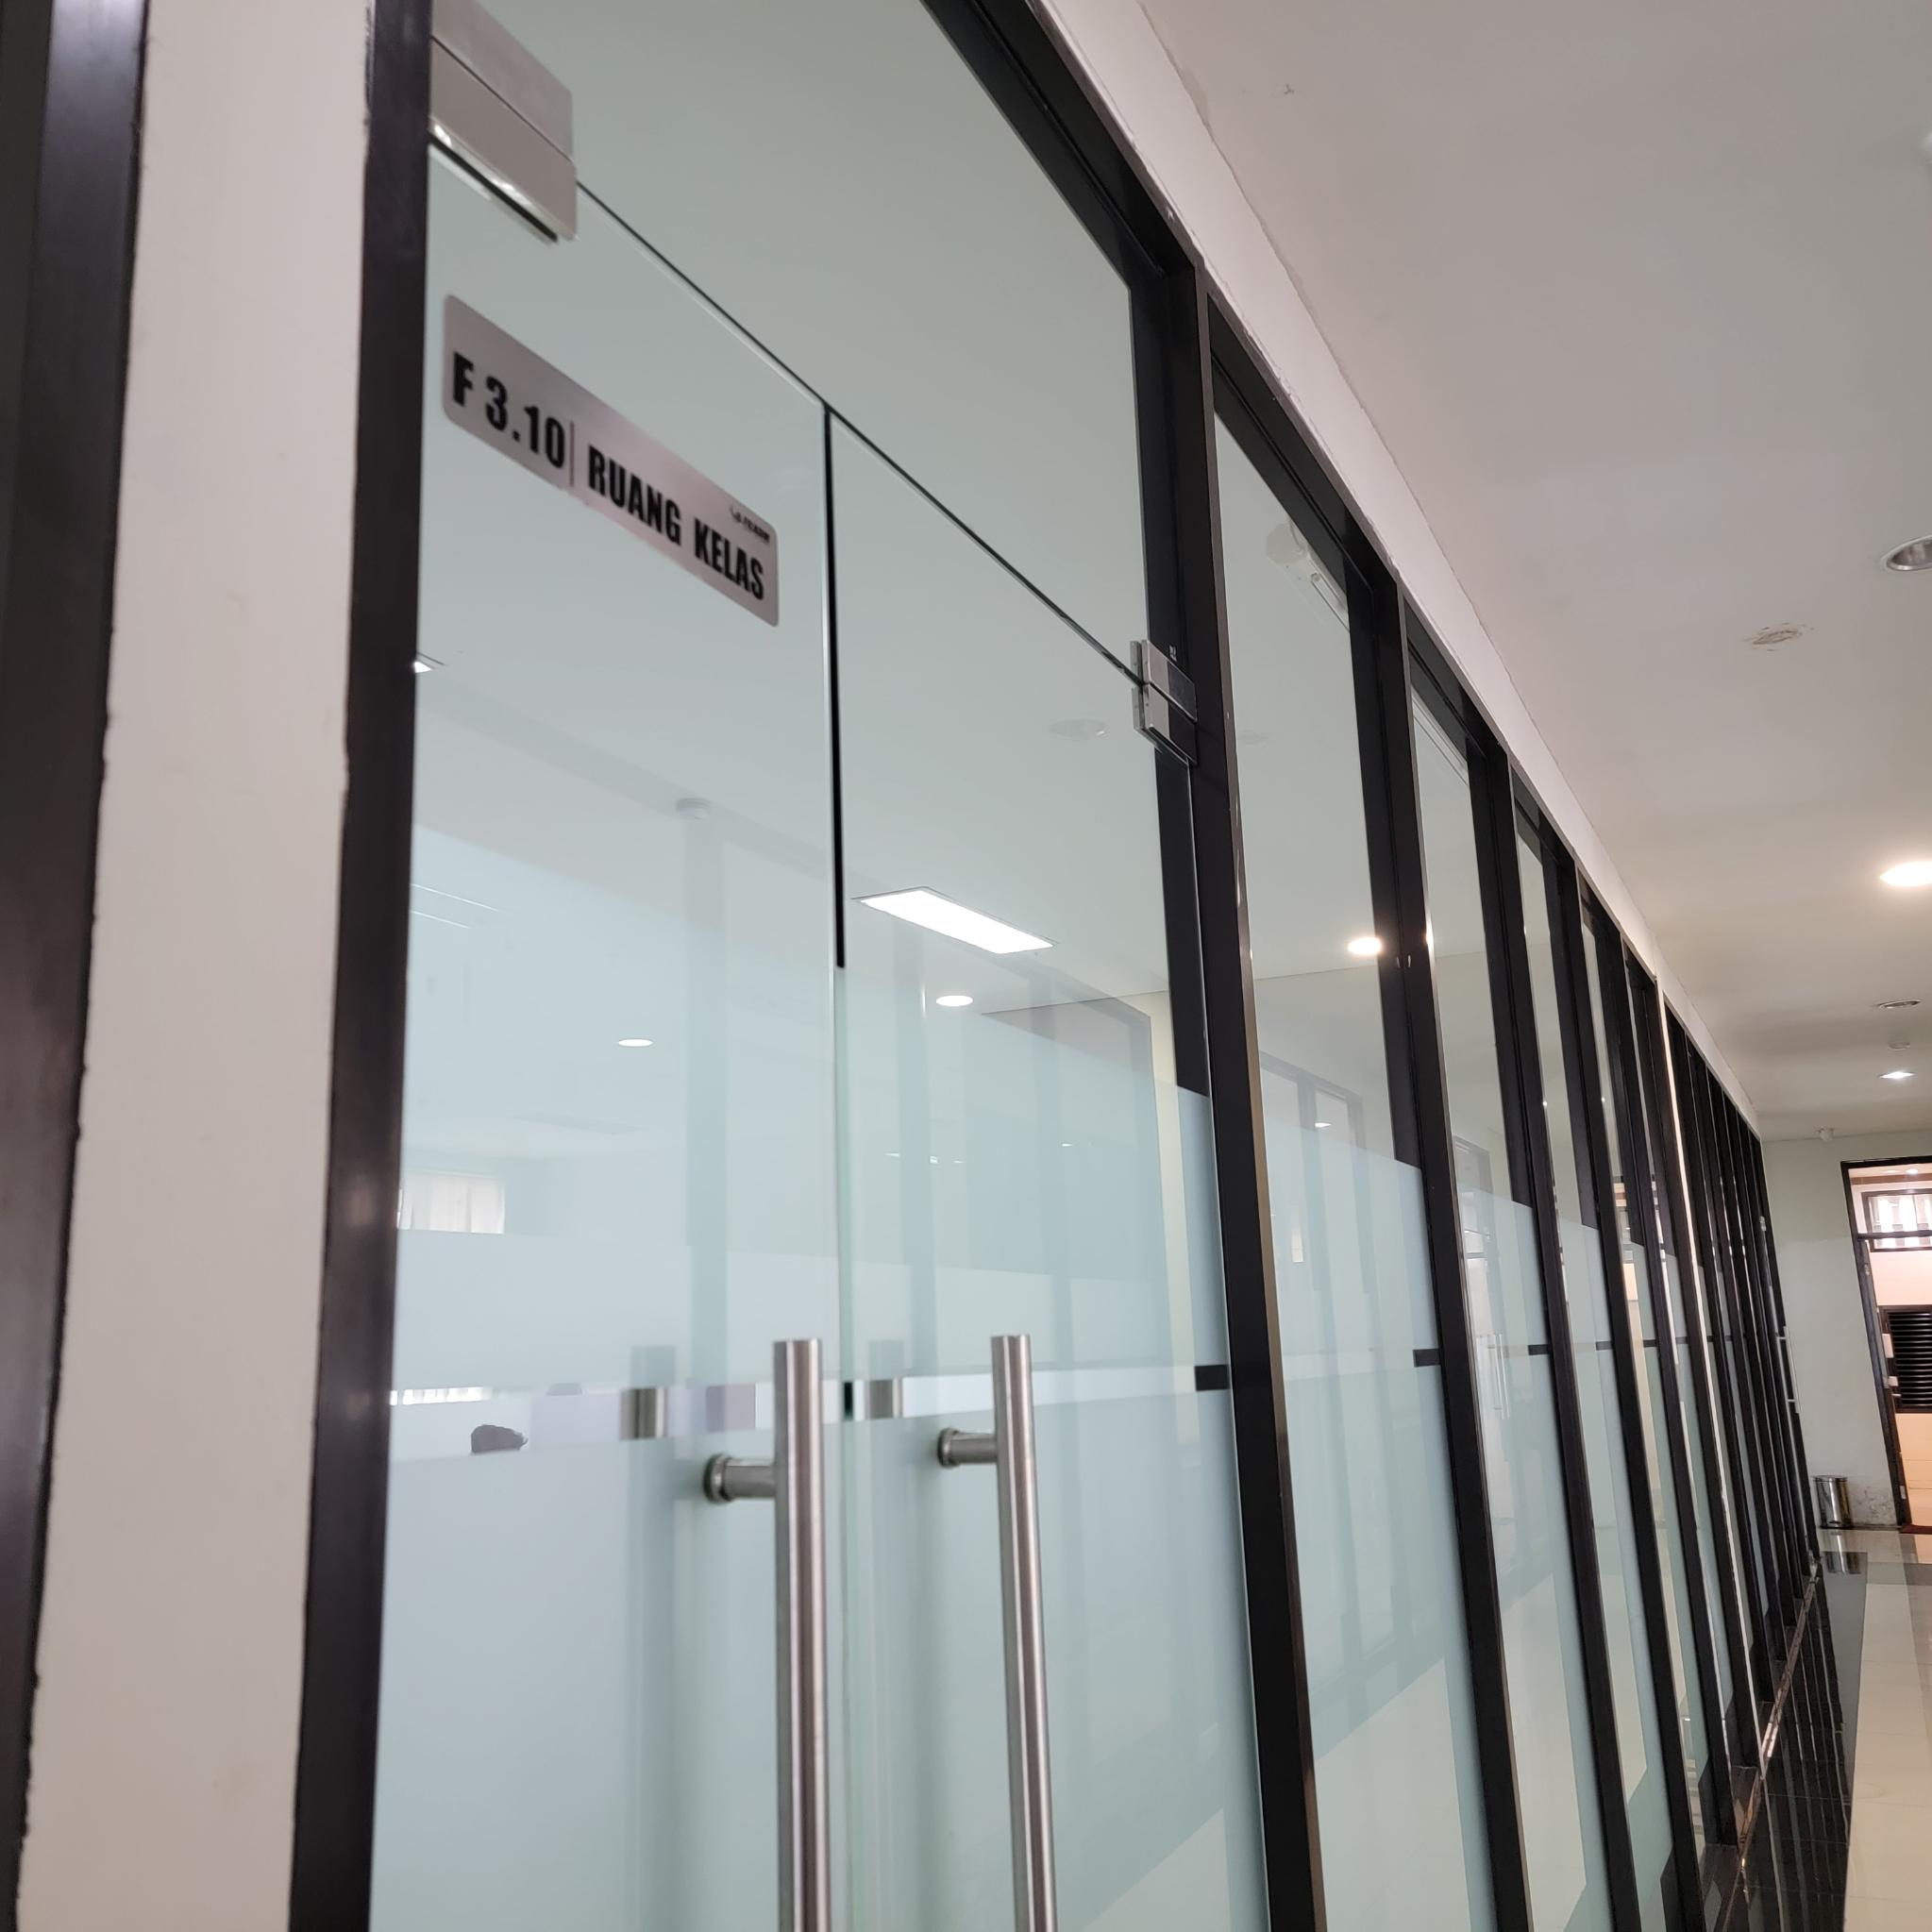plate: (439, 292, 780, 637)
